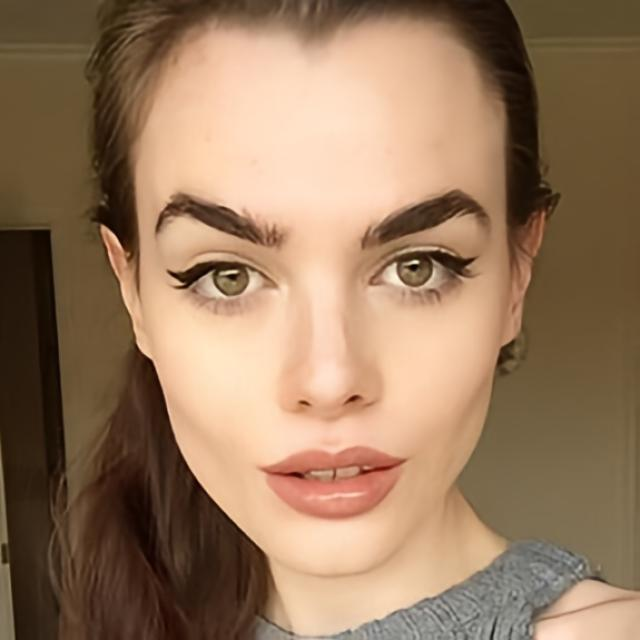surprise: (137, 0, 509, 579)
